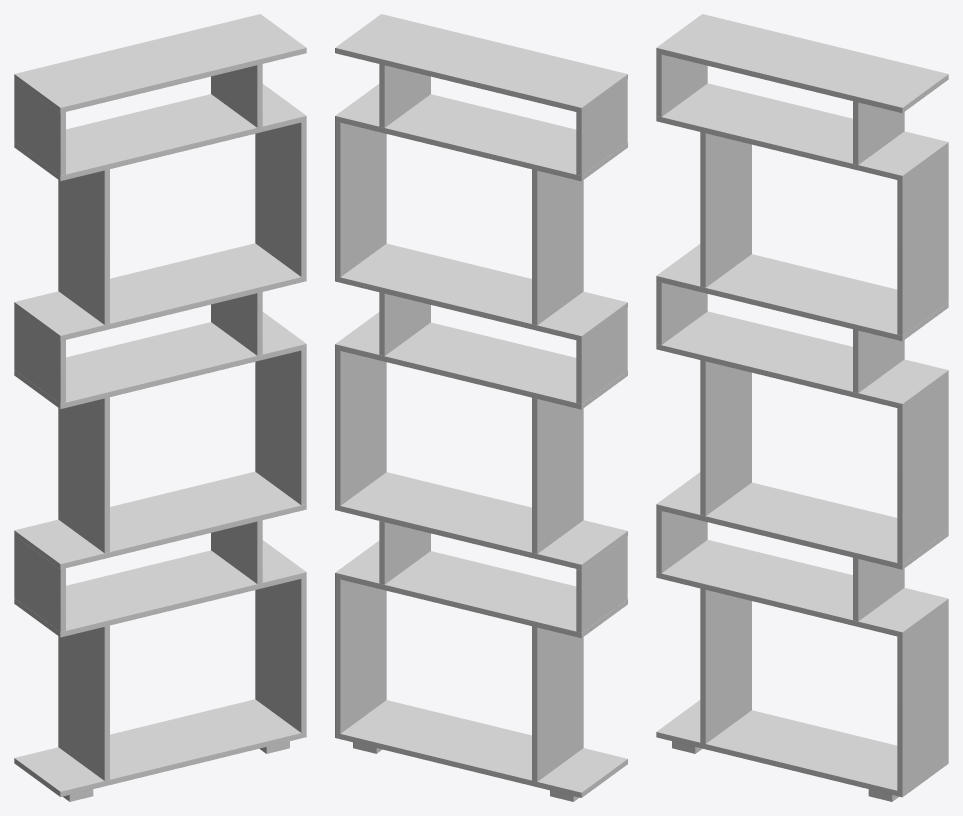
The picture shows the model from 3 angles, left to right: view 1: azimuth 30°, elevation 25°; view 2: azimuth 150°, elevation 25°; view 3: azimuth 330°, elevation 25°; orthographic projection.
Visible parts, largest first — view 1: wood; view 2: wood; view 3: wood.
Part boxes in pixels (<box>): wood: <box>14,14,306,801</box>; wood: <box>335,14,627,801</box>; wood: <box>656,14,948,801</box>.
Bounding box in the file's own units: 0.6 × 1.63 × 0.195.
Materials: 1 (1 with a texture image).
